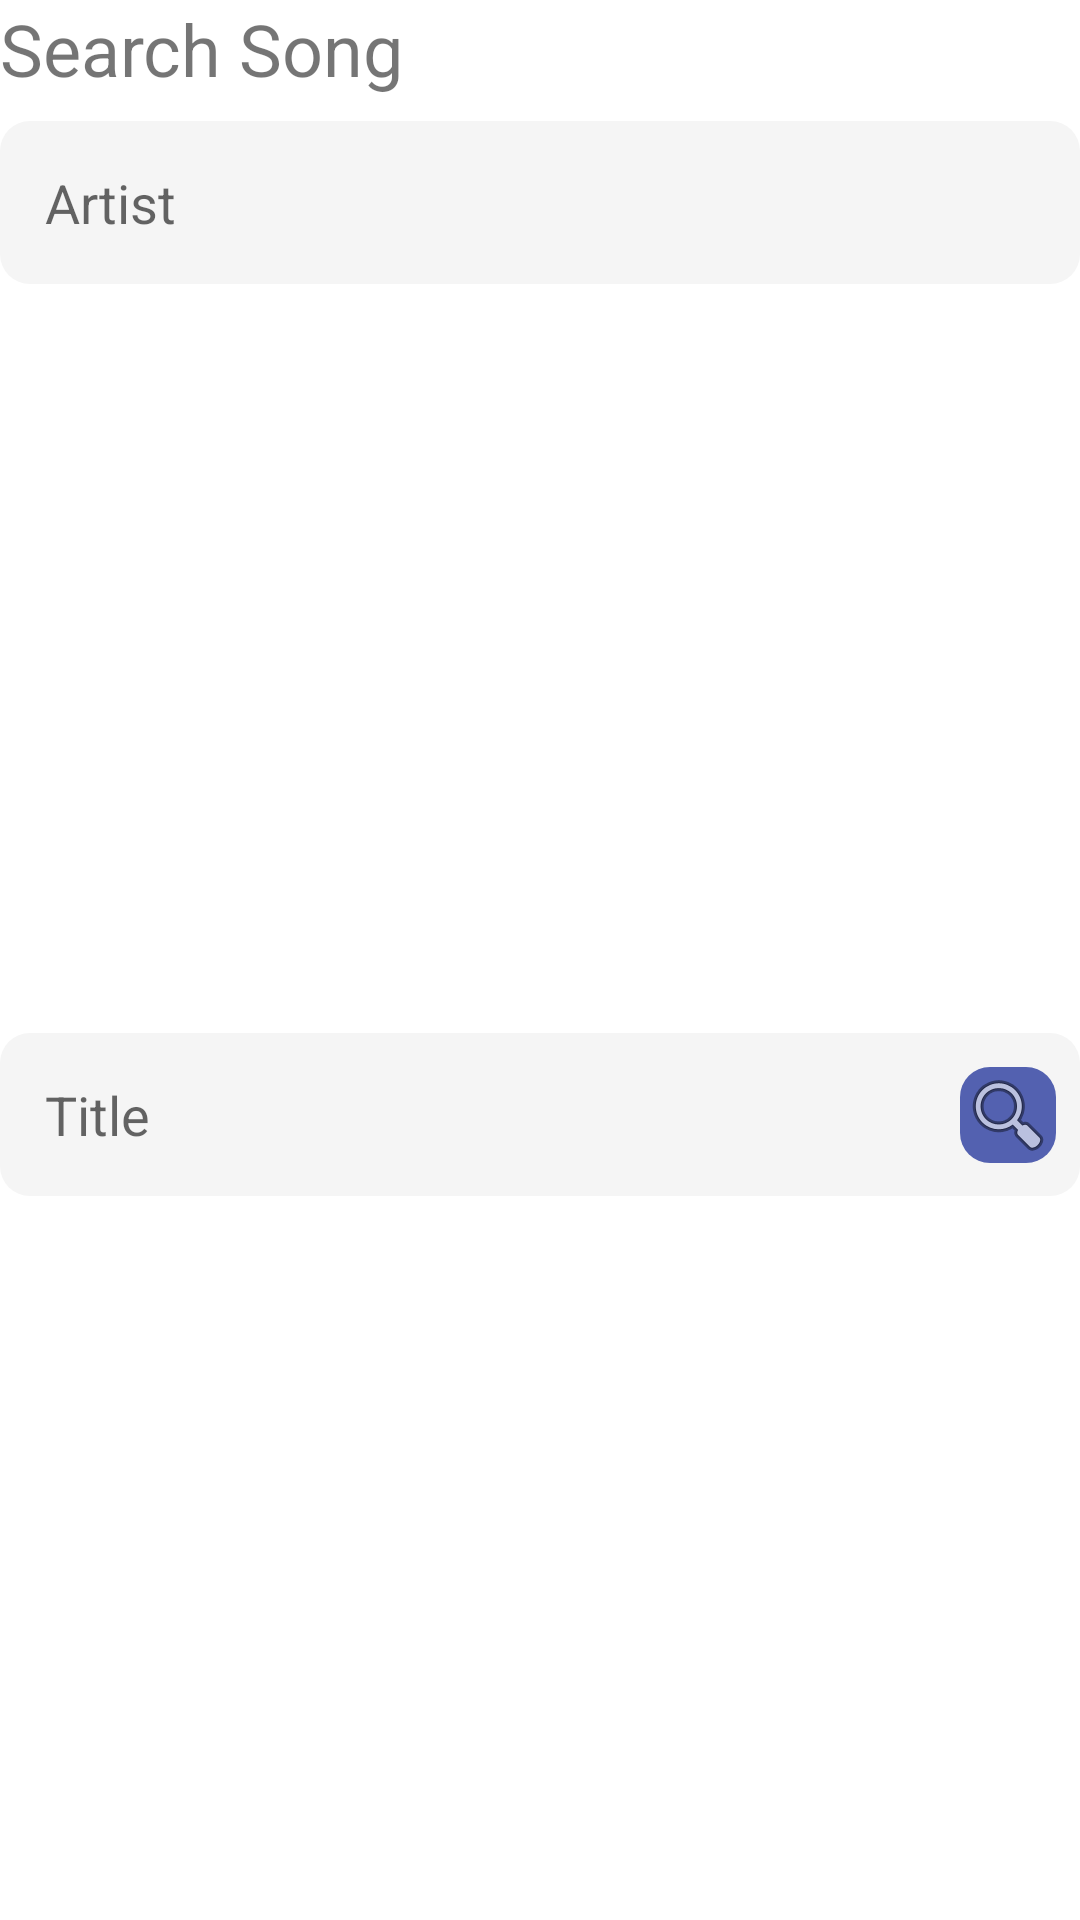

Screen size 1080px x 1920px. Icon name, then its center in pixels as [x,y]:
search: [1008,1115]
